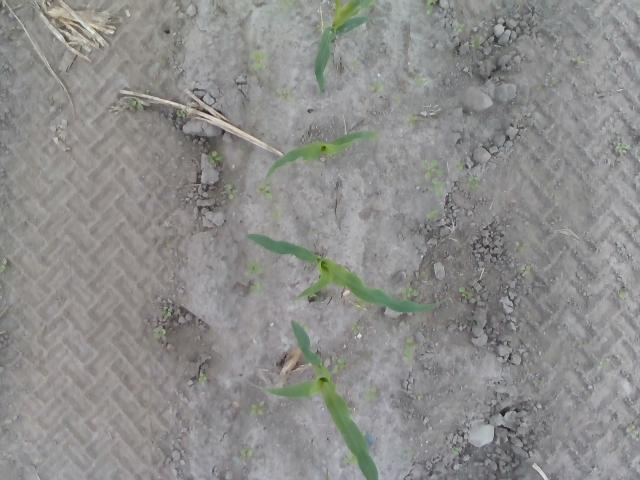Maize: (253, 317, 381, 480), (246, 234, 434, 313), (312, 0, 376, 99), (264, 128, 379, 182)
Weeds: (423, 158, 448, 198), (250, 49, 272, 70), (402, 336, 416, 362), (254, 183, 274, 200), (207, 150, 224, 166), (276, 88, 294, 103), (342, 450, 358, 466), (247, 262, 266, 275), (364, 387, 378, 403), (426, 208, 442, 222), (129, 98, 146, 111), (277, 0, 295, 12), (330, 357, 344, 372), (624, 425, 639, 439), (223, 184, 238, 198), (239, 446, 256, 458), (250, 402, 264, 416), (615, 142, 631, 154), (0, 255, 10, 274), (401, 288, 419, 298), (570, 54, 586, 65), (160, 305, 173, 318), (468, 176, 480, 190), (458, 286, 472, 298), (154, 326, 168, 338), (351, 320, 362, 335), (415, 77, 431, 87), (424, 0, 434, 16), (406, 114, 419, 126), (196, 372, 208, 385), (452, 22, 464, 33), (454, 160, 466, 170), (370, 84, 384, 92), (615, 289, 625, 300), (597, 360, 608, 369), (518, 264, 530, 272), (353, 302, 366, 309), (175, 109, 185, 118), (470, 40, 481, 48), (452, 447, 461, 456), (255, 283, 262, 292)
